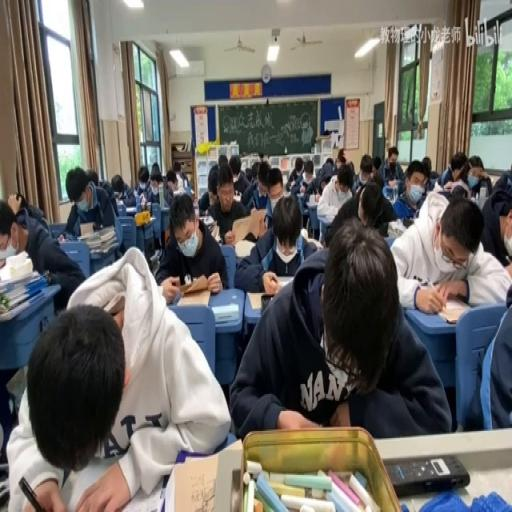calculator: (169, 452, 222, 512), (117, 473, 164, 512), (229, 208, 264, 246), (174, 287, 210, 307), (438, 300, 470, 322), (212, 302, 238, 324), (0, 243, 17, 270), (234, 238, 256, 258), (302, 235, 324, 250), (387, 218, 405, 236), (148, 248, 160, 272), (129, 215, 154, 226), (474, 189, 486, 211), (79, 220, 93, 238), (90, 246, 112, 257), (274, 273, 294, 285), (201, 213, 214, 225), (210, 224, 219, 240), (125, 205, 136, 215), (387, 178, 398, 186), (233, 189, 240, 201), (114, 196, 122, 206), (298, 183, 305, 192), (188, 186, 194, 196)
paper: (232, 219, 446, 438), (0, 191, 87, 442), (388, 190, 507, 312), (154, 192, 228, 292), (476, 293, 510, 429), (64, 165, 118, 243), (312, 159, 354, 232), (361, 173, 395, 232), (10, 192, 48, 230), (253, 168, 278, 222), (462, 154, 491, 199), (197, 164, 219, 214), (224, 154, 250, 196), (382, 145, 405, 186), (112, 169, 136, 206), (354, 154, 375, 192), (434, 184, 469, 206), (412, 156, 432, 194), (491, 168, 512, 202), (134, 164, 153, 199), (286, 156, 304, 192), (450, 152, 468, 181), (302, 173, 318, 202), (165, 168, 179, 198), (150, 162, 163, 188), (438, 165, 452, 186), (98, 178, 112, 198), (85, 166, 98, 186), (250, 159, 260, 181), (372, 155, 382, 174), (218, 154, 228, 172), (346, 160, 356, 178), (318, 178, 328, 196), (337, 148, 346, 165), (324, 158, 334, 168), (173, 162, 180, 175), (182, 175, 188, 188), (258, 151, 265, 162)
person: (386, 452, 468, 496), (18, 475, 46, 509), (259, 293, 273, 313), (0, 478, 9, 506), (402, 215, 414, 226), (146, 200, 152, 214)
